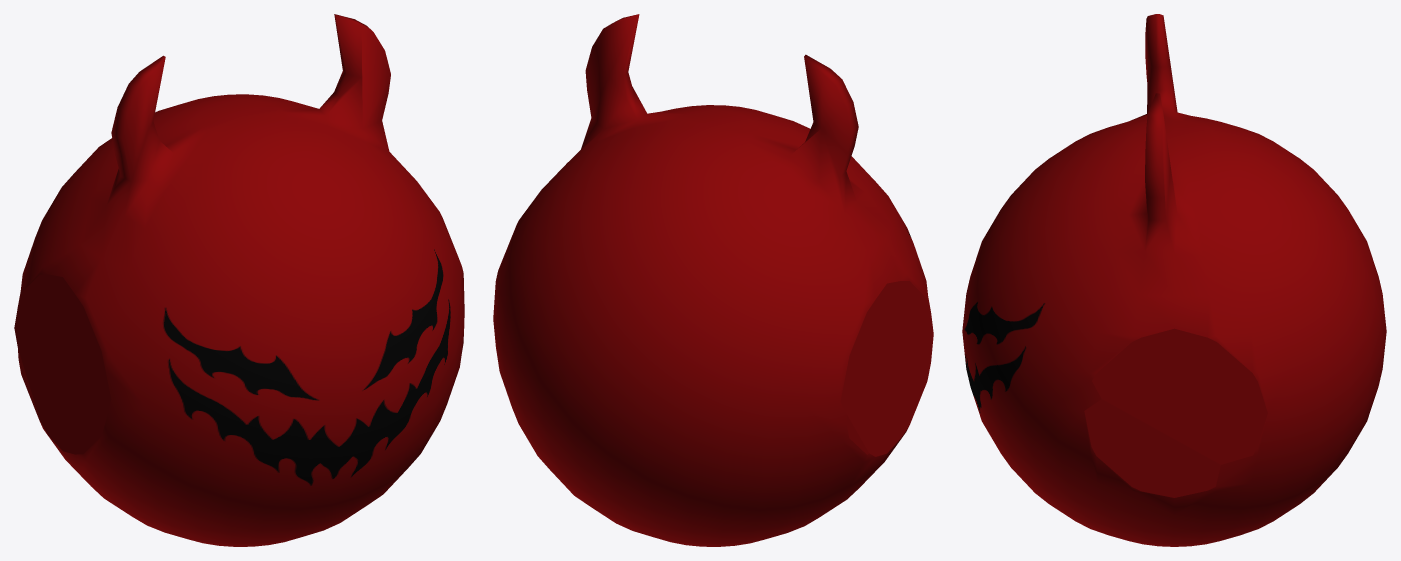
Rendered from demon.fbx.
The picture shows the model from 3 angles, left to right: view 1: azimuth 30°, elevation 25°; view 2: azimuth 150°, elevation 25°; view 3: azimuth 270°, elevation 25°; orthographic projection. The views are drawn at different scales.
Parts seen in each view (by area): view 1: Sphere; view 2: Sphere; view 3: Sphere.
Part boxes in pixels (box(x1,y1,x2,y2)): Sphere: box(14, 14, 464, 546); Sphere: box(493, 14, 933, 546); Sphere: box(962, 14, 1386, 546).
Size of the model in its own units: 184 by 242 by 198.
